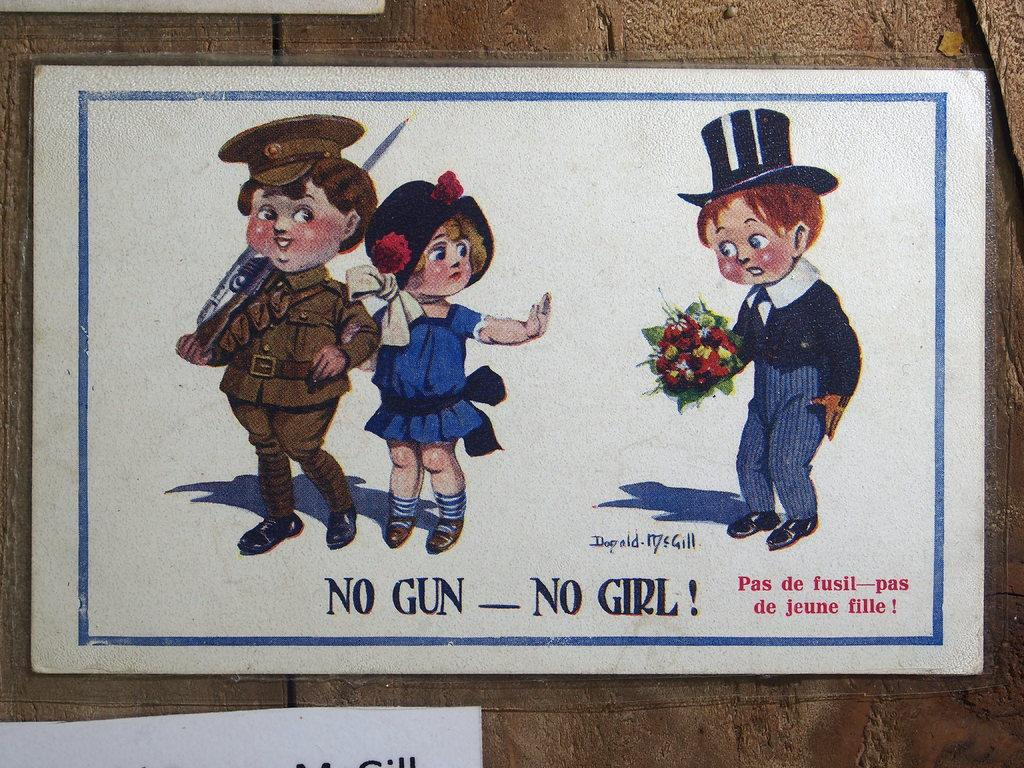Hat: (678, 108, 839, 207), (362, 176, 492, 290), (218, 114, 366, 188)
